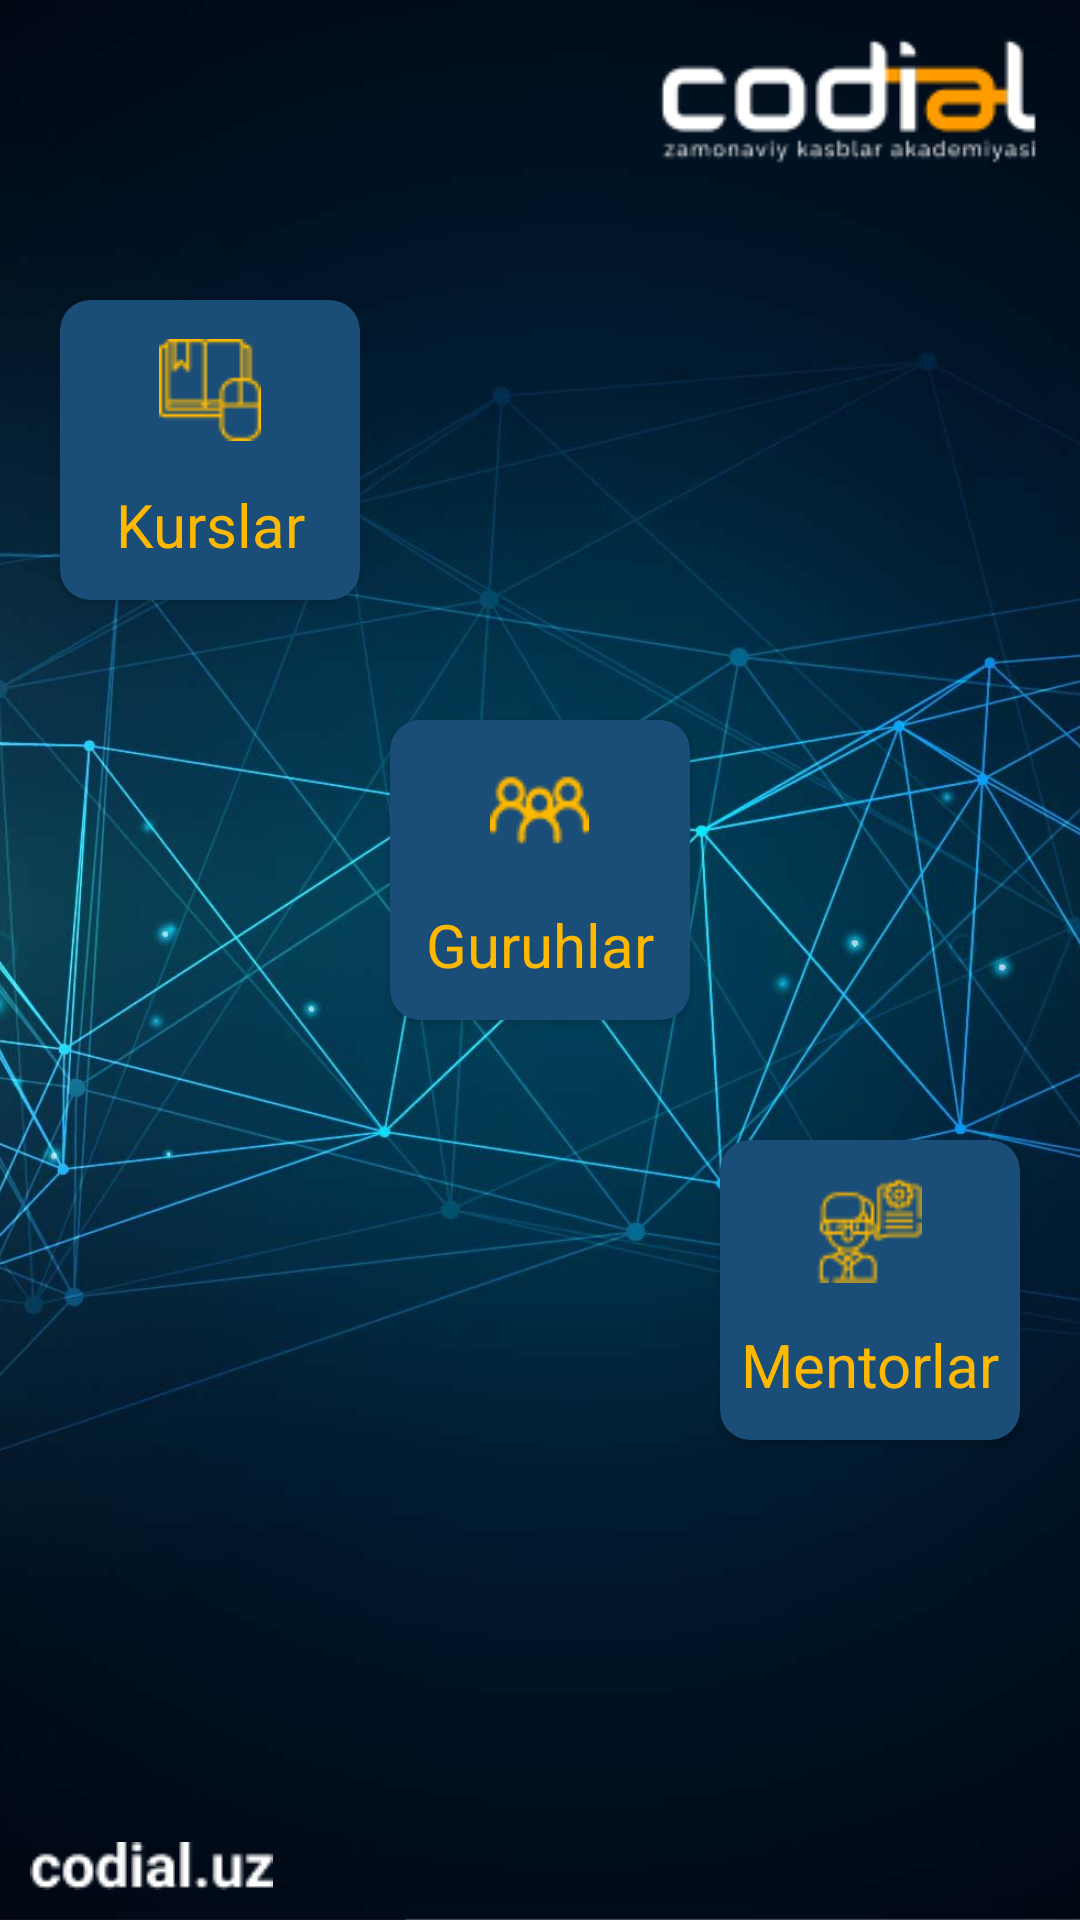

Icon bounding boxes for this 1080px x 1920px phone screenshot, format box(x1, y1, x2, y2):
course: box(159, 339, 261, 441)
